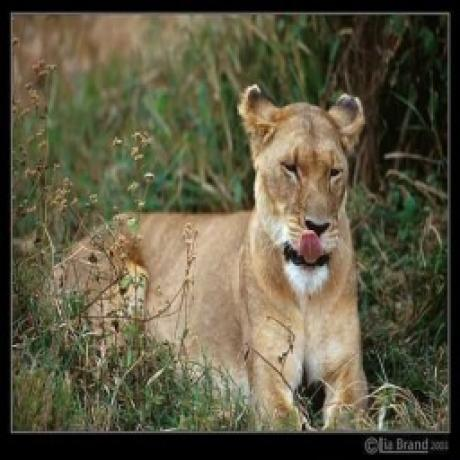Lion: (58, 84, 372, 429)
